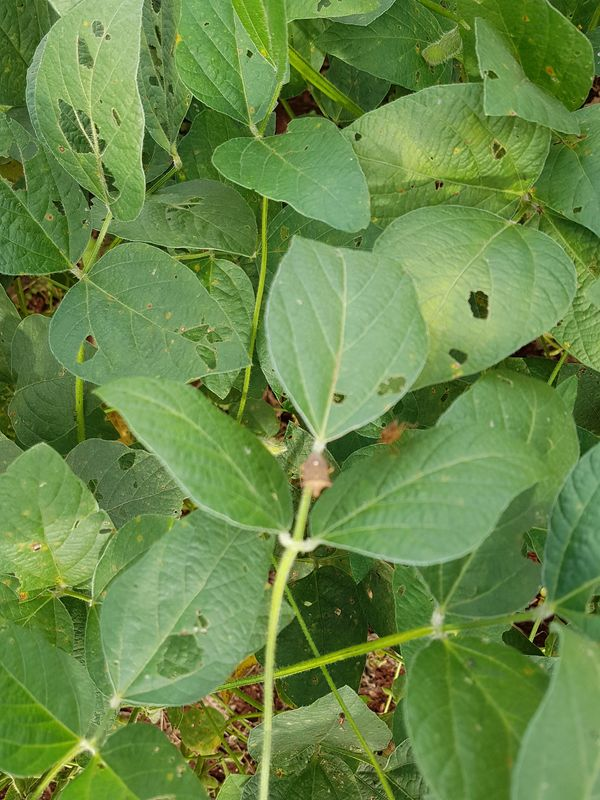Euschistus_heros_adulto: (286, 445, 339, 502)
